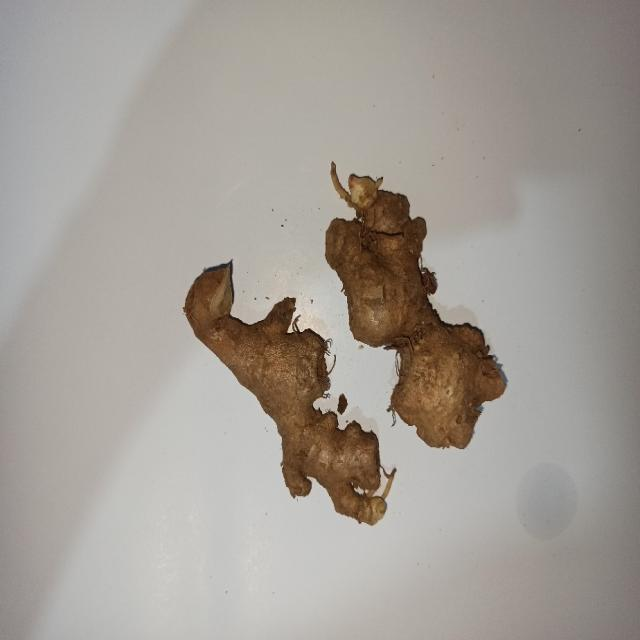ginger: (185, 270, 385, 529), (326, 192, 504, 449)
